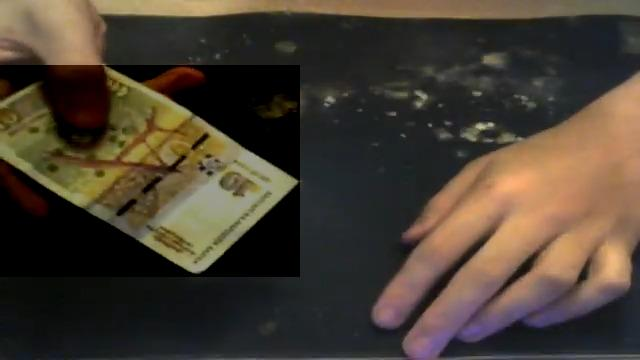10leva: (0, 65, 300, 277)
